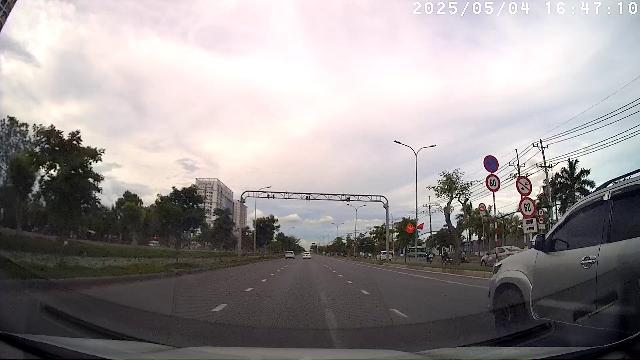127-toc-do-toi-da-60: (519, 197, 536, 218)
127-toc-do-toi-da-80: (485, 174, 501, 192)
130-cam-dung-va-do-xe: (483, 155, 499, 172)
